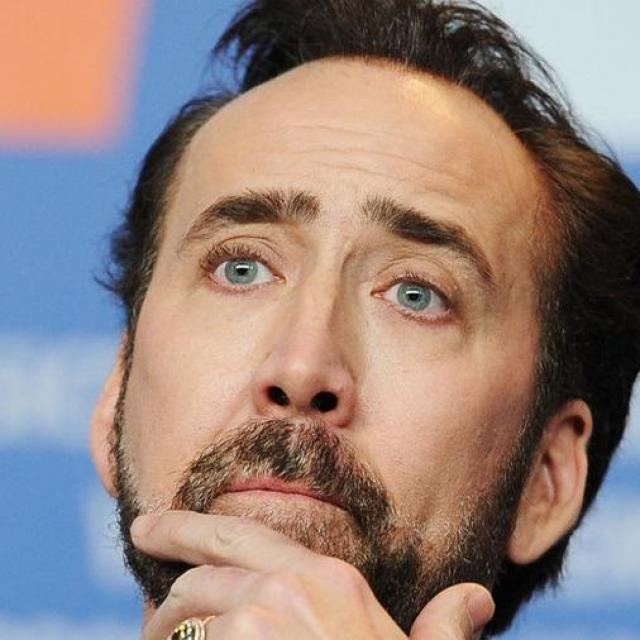surprised: (164, 58, 582, 605)
